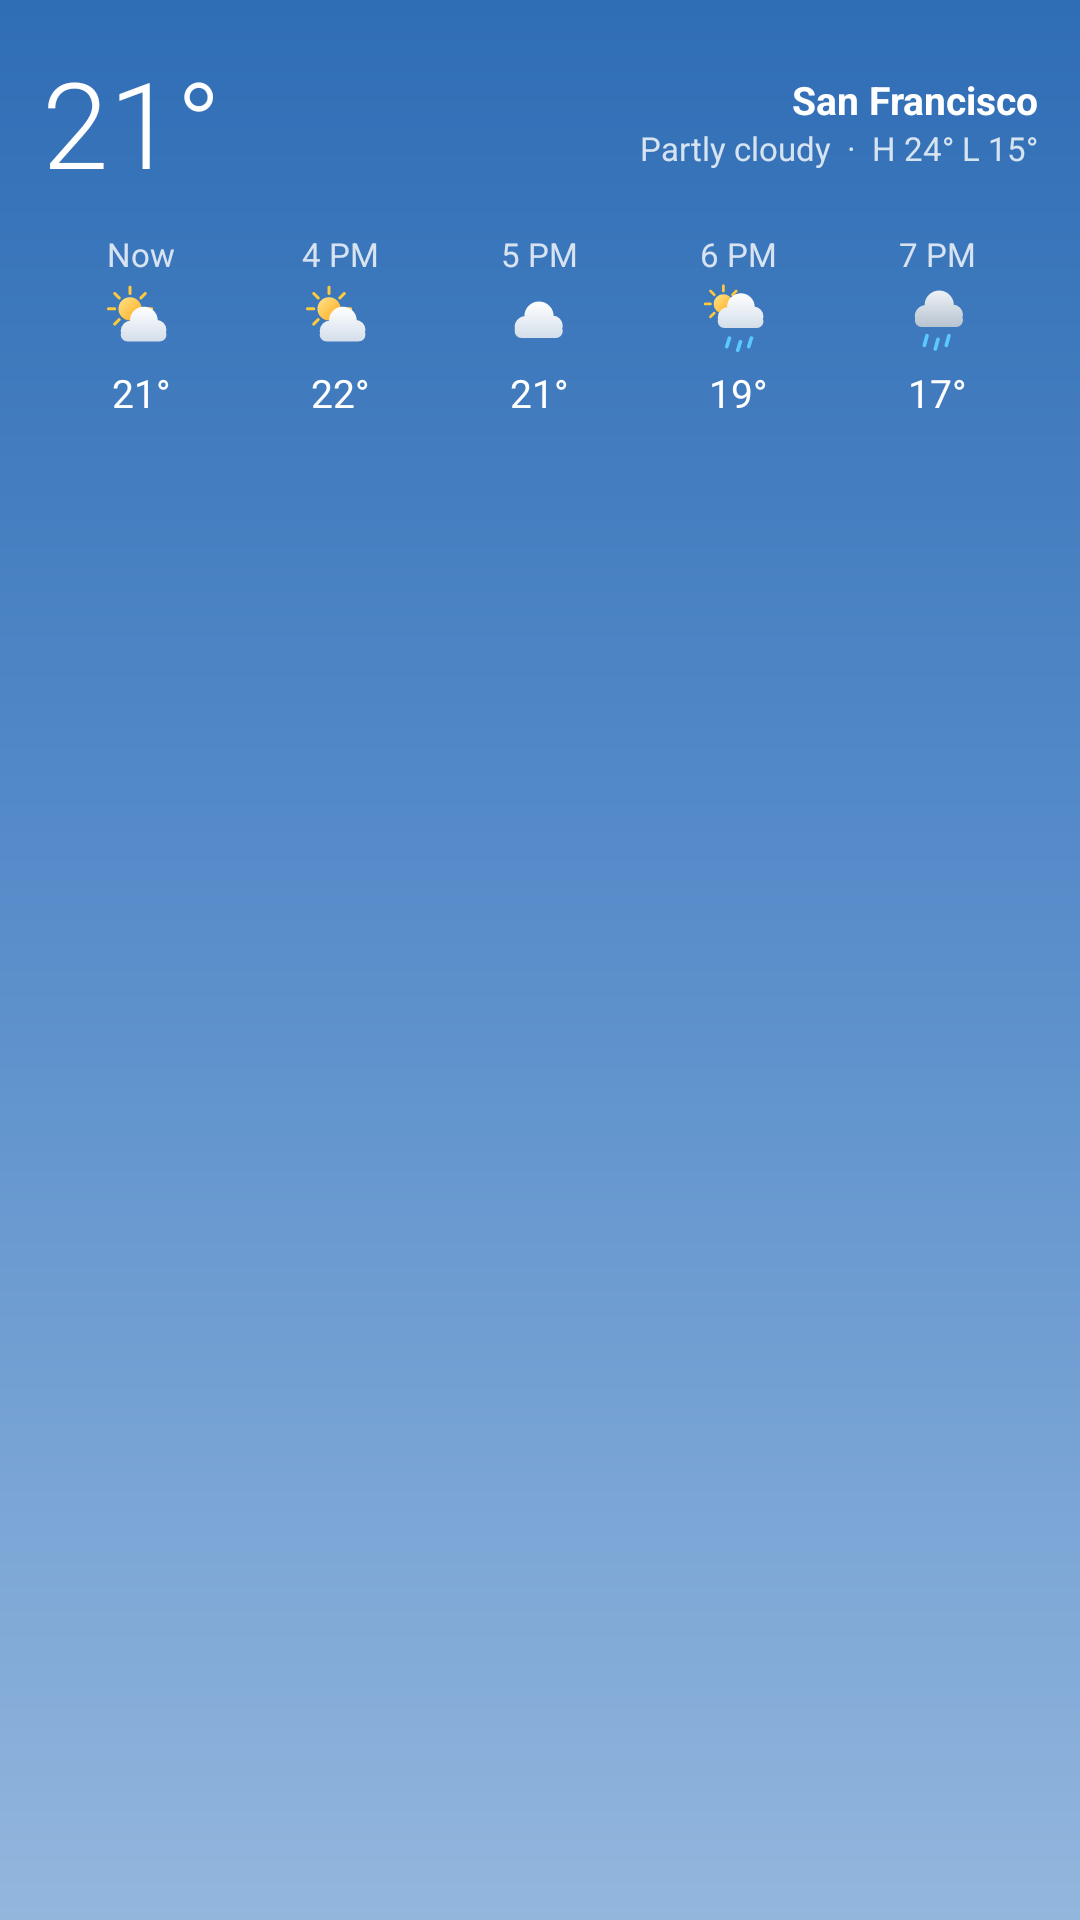

Icon bounding boxes for this 1080×1920 phone screenshot, format (x1, y1, x2, y2):
partly cloudy day: (107, 285, 167, 342), (306, 285, 366, 342)
rain: (915, 290, 963, 351)
showers day: (704, 284, 764, 352)
